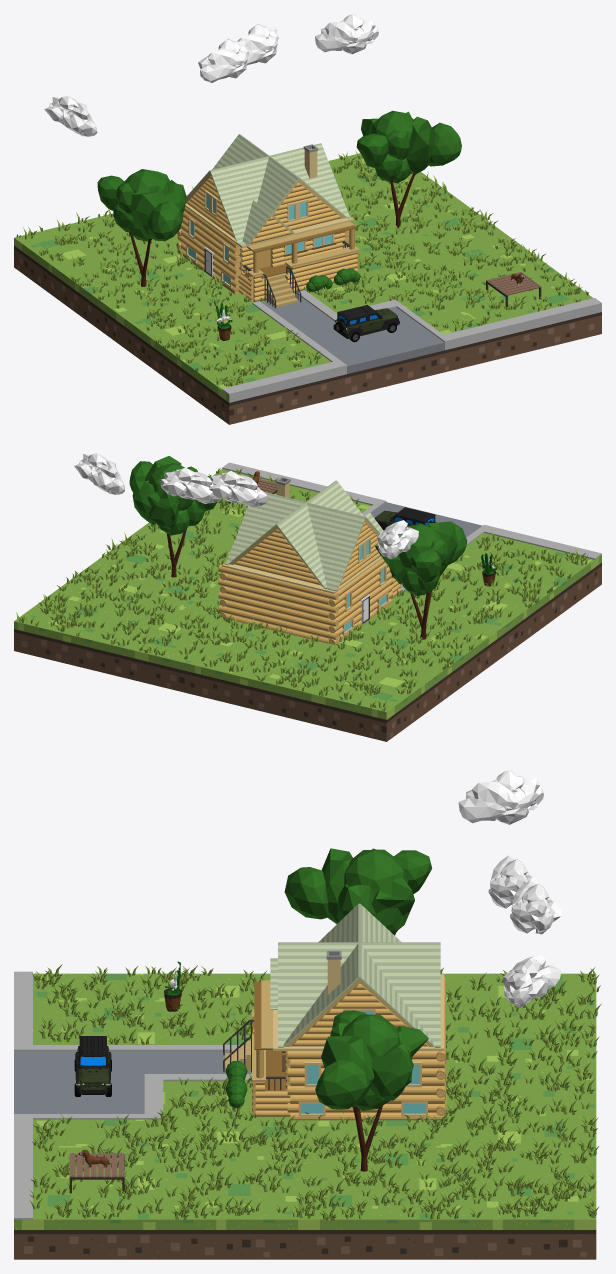
3 views of the same model, one above another, from view 1: azimuth 30°, elevation 25°; view 2: azimuth 150°, elevation 25°; view 3: azimuth 270°, elevation 25° (orthographic). The views are drawn at different scales.
Visible parts, largest first — view 1: Cube.006, Cube.1516, Circle.012_Grass_0.192, Cube.007, tree, tree.001, VEHICLES_JEEP, Cube.009; view 2: Cube.006, Cube.1516, Circle.012_Grass_0.192, Cube.007, tree.001, tree, VEHICLES_JEEP; view 3: Cube.006, Circle.012_Grass_0.192, Cube.1516, tree, Cube.007, tree.001, VEHICLES_JEEP, Cube.009.
Part boxes in pixels (<box>): Cube.006: <box>14,153,601,424</box>; Cube.1516: <box>176,134,359,308</box>; Circle.012_Grass_0.192: <box>16,150,588,386</box>; Cube.007: <box>44,14,378,136</box>; tree: <box>356,110,461,228</box>; tree.001: <box>97,169,186,286</box>; VEHICLES_JEEP: <box>333,305,399,342</box>; Cube.009: <box>486,272,541,306</box>; Cube.006: <box>14,462,601,741</box>; Cube.1516: <box>218,477,401,644</box>; Circle.012_Grass_0.192: <box>16,468,588,711</box>; Cube.007: <box>74,453,418,559</box>; tree.001: <box>375,521,467,639</box>; tree: <box>129,456,216,577</box>; VEHICLES_JEEP: <box>375,507,436,530</box>; Cube.006: <box>14,971,596,1259</box>; Circle.012_Grass_0.192: <box>29,964,601,1220</box>; Cube.1516: <box>223,903,445,1120</box>; tree: <box>315,1010,428,1171</box>; Cube.007: <box>458,770,561,1007</box>; tree.001: <box>284,848,432,935</box>; VEHICLES_JEEP: <box>74,1036,111,1096</box>; Cube.009: <box>69,1153,124,1193</box>.
Bounding box in the file's own units: 4071 × 2175 × 4040.
39 materials, 4 textured.
